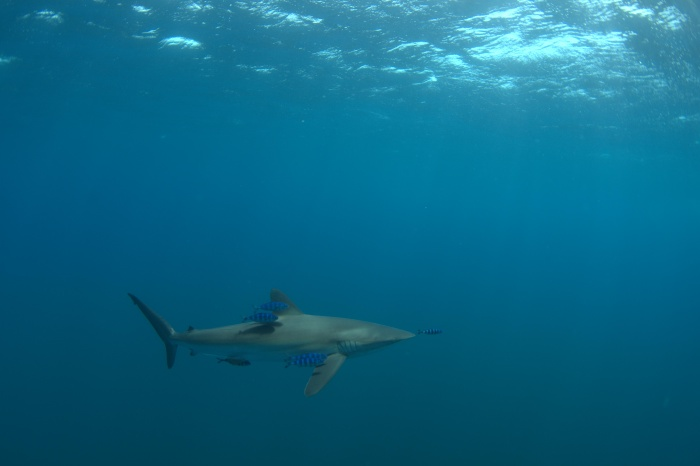Mako: (112, 277, 446, 406)
